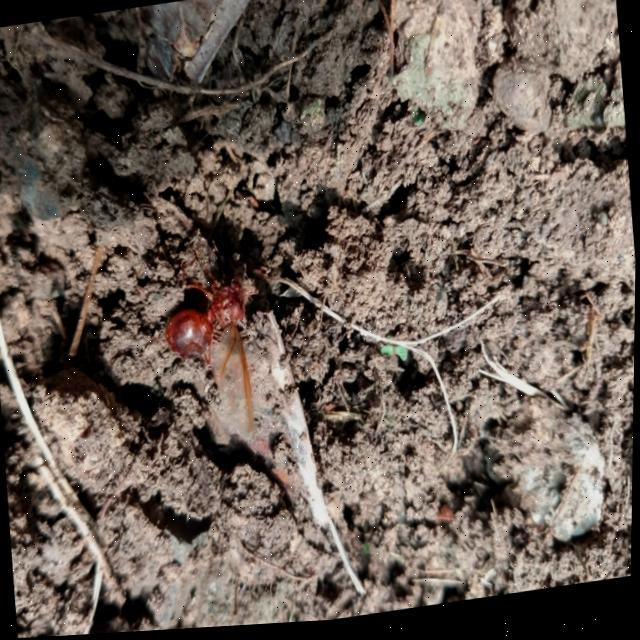Dead-Male-Alate: (155, 222, 273, 454)
